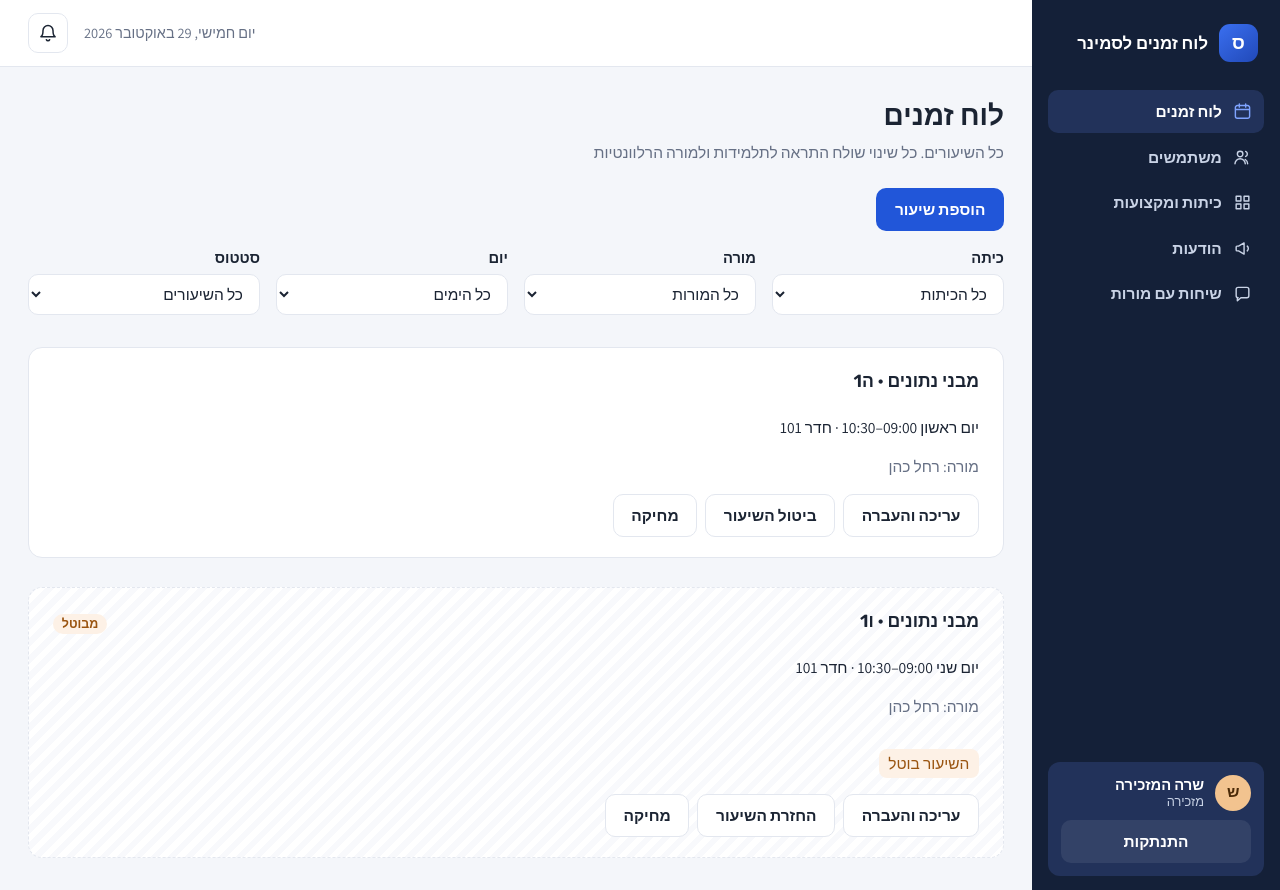
Scenario: ניהול לוח זמנים › עריכה והעברה: הטופס ממולא, ושולח את השיעור המעודכן
Expected: the heading "מבני נתונים · ה1" is shown, [854, 368, 979, 395]
Click the button "עריכה והעברה" below "ה1" at (911, 515), box [843, 494, 979, 537]
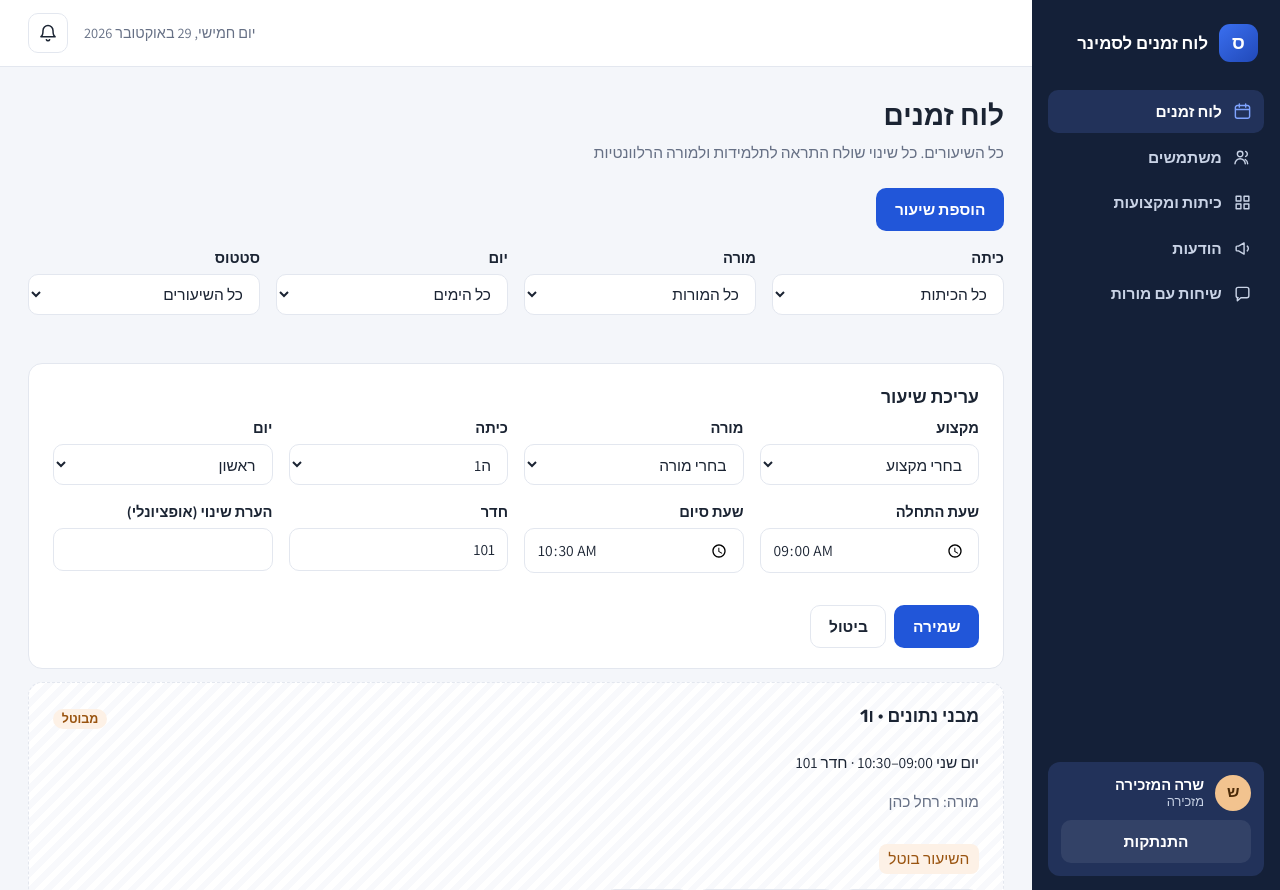
Now the field labelled "חדר" holds "101"
Now the 2nd dropdown labelled "יום" shows "ראשון", box [53, 444, 272, 485]
Replace the text in the field labelled "חדר" with "202" at (398, 550), box [288, 528, 508, 571]
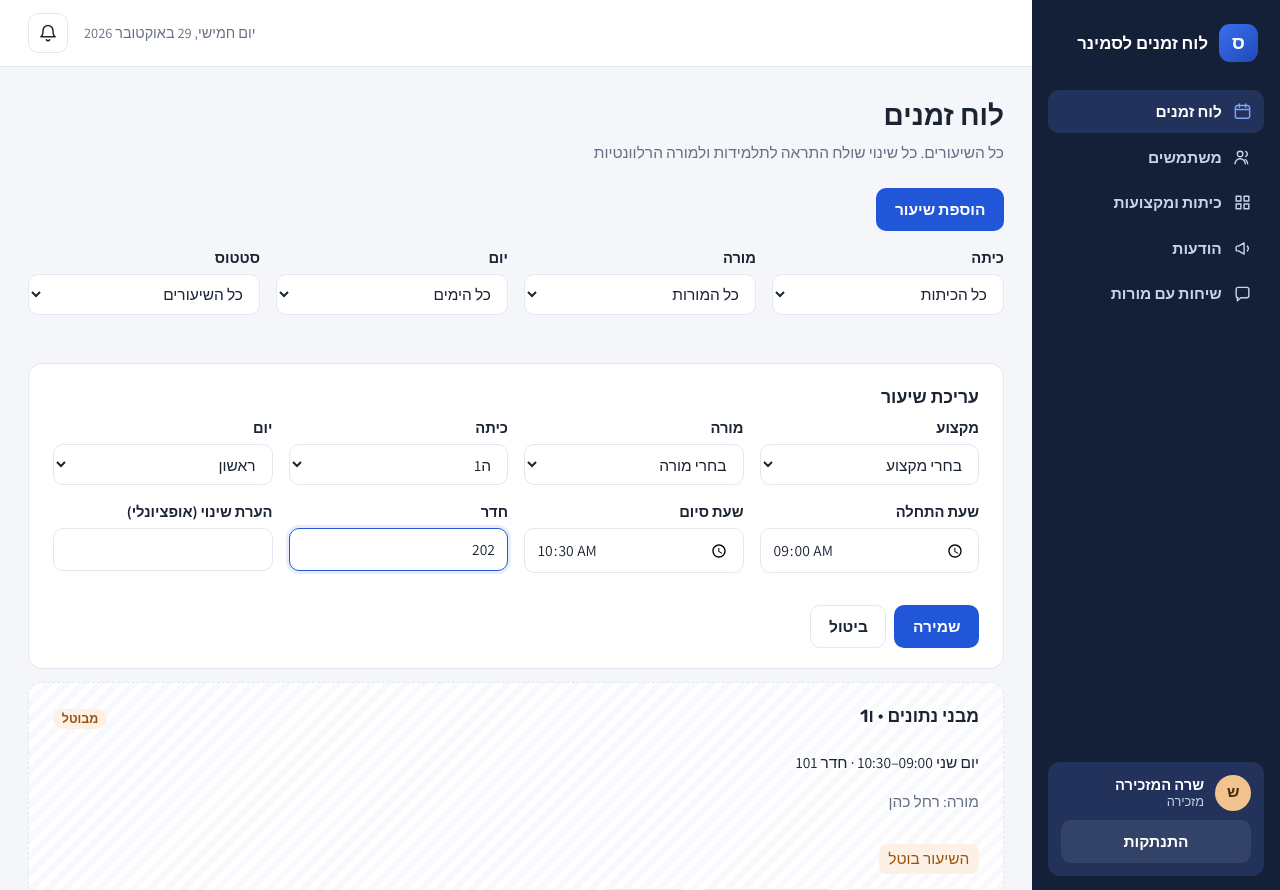
Select "רביעי" in the 2nd dropdown labelled "יום" at (163, 465), box [53, 444, 272, 485]
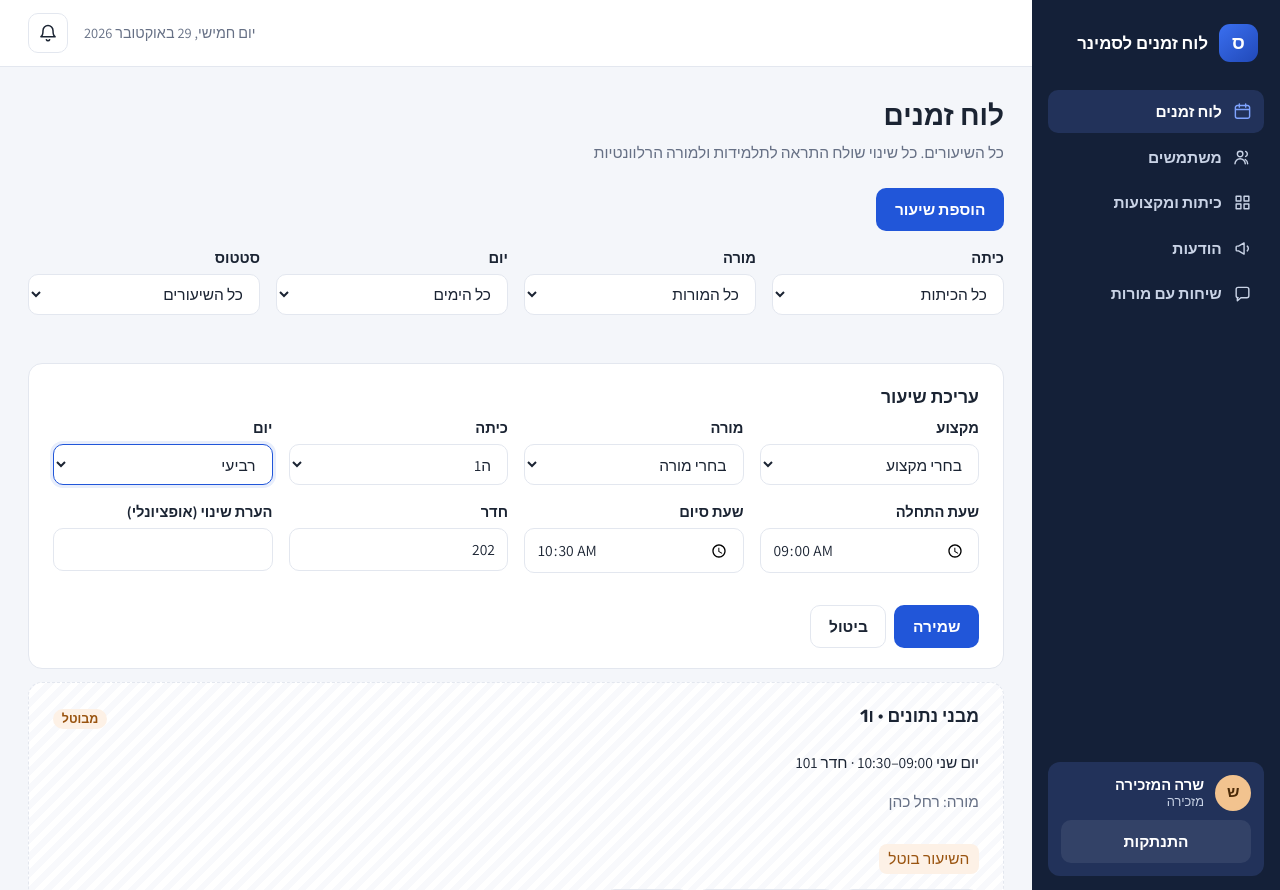
Click the button "שמירה" at (937, 626), box [894, 605, 979, 648]
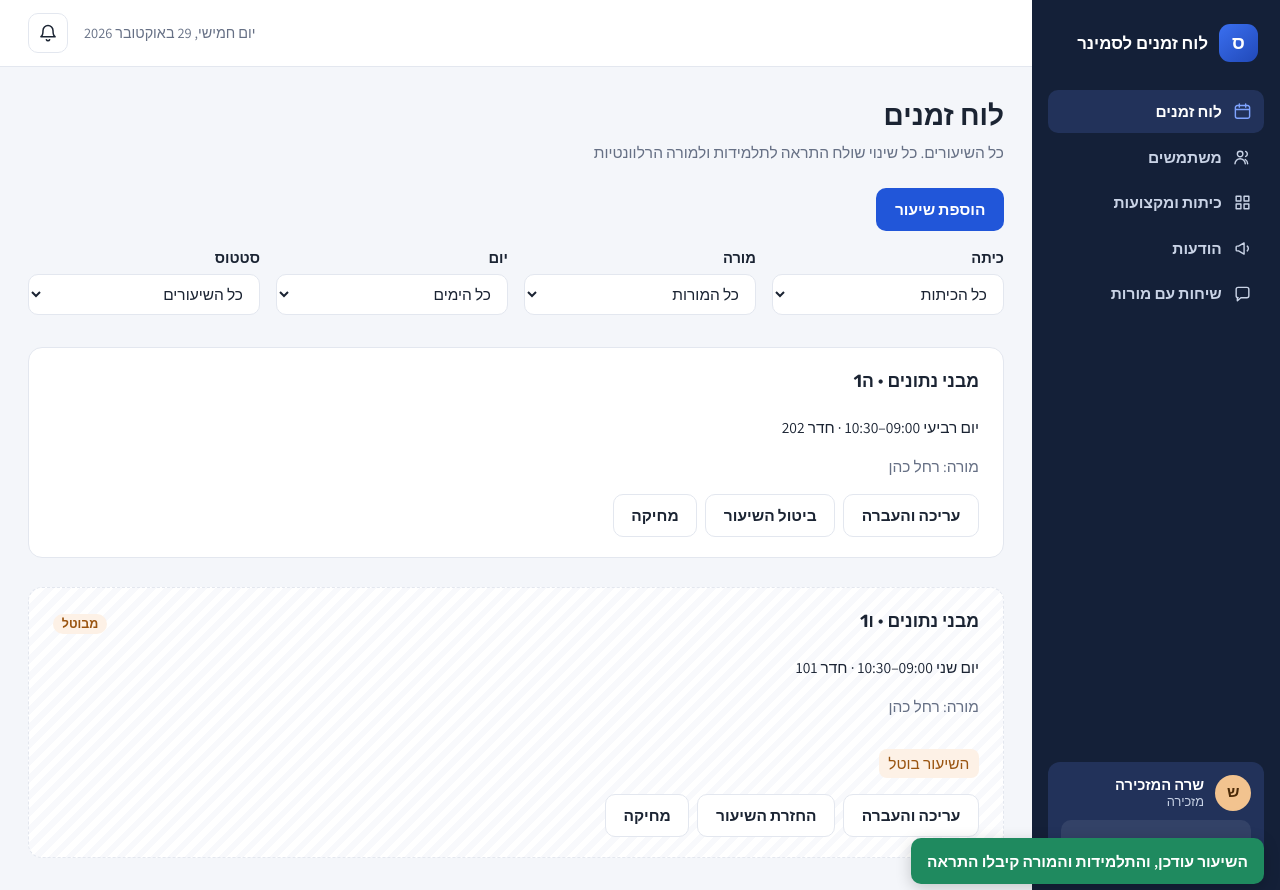
Now the text "השיעור עודכן, והתלמידות והמורה קיבלו התראה" is shown, box [911, 838, 1264, 884]
Now the text "יום רביעי 09:00–10:30 · חדר 202" is shown, box [782, 417, 979, 437]
